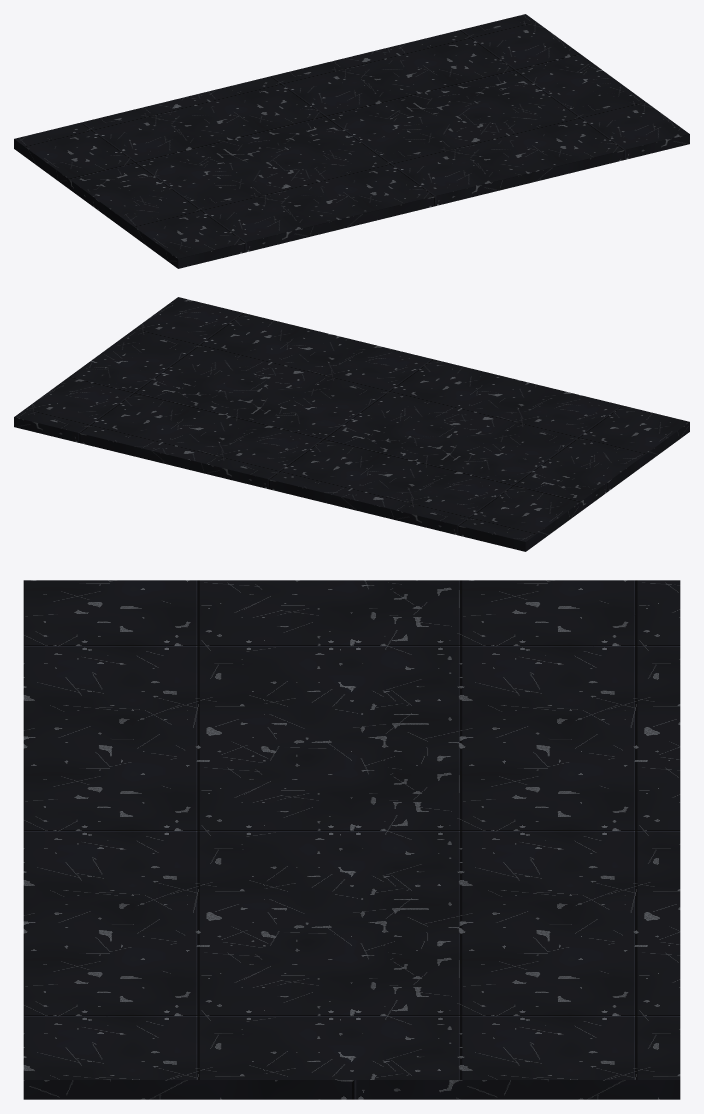
The model's file is Light_CeilingPanel.001.gltf.
3 views of the same model, one above another, from view 1: azimuth 30°, elevation 25°; view 2: azimuth 150°, elevation 25°; view 3: azimuth 270°, elevation 25° (orthographic). The views are drawn at different scales.
Visible parts, largest first — view 1: Light_CeilingPanel.001; view 2: Light_CeilingPanel.001; view 3: Light_CeilingPanel.001.
Part boxes in pixels (left/top/right/bottom): Light_CeilingPanel.001: left=14, top=14, right=689, bottom=268; Light_CeilingPanel.001: left=14, top=297, right=689, bottom=551; Light_CeilingPanel.001: left=23, top=580, right=680, bottom=1099.
Size of the model in its own units: 2.7 by 0.055 by 1.5.
Materials: 3 (1 with a texture image).
